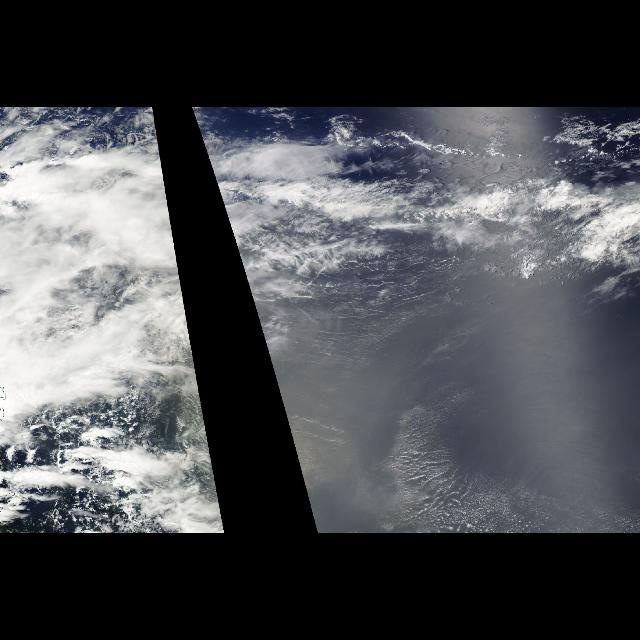Sugar: (332, 298, 630, 532)
